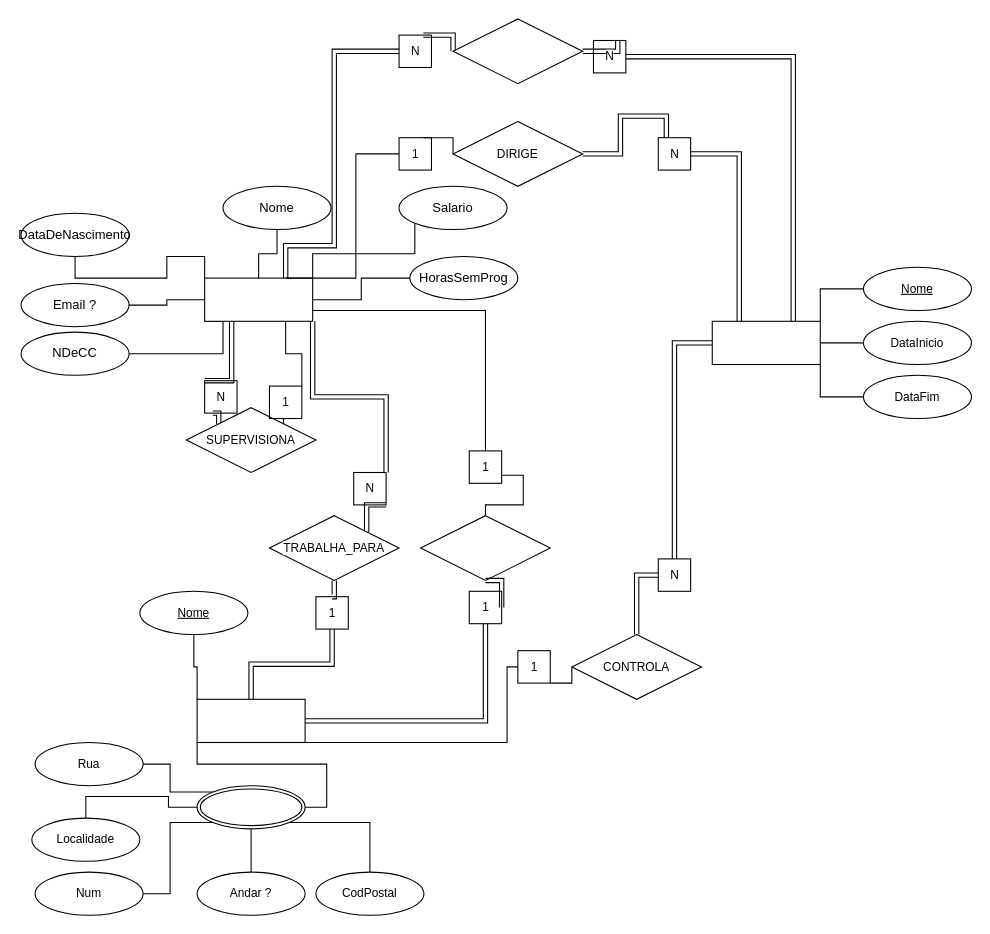
The diagram is 990 pixels wide and 934 high, and some of its shapes have lost their labels. The centre of each missing label's shape, as x and y in pixels:
DEPARTAMENTO: point (250, 720)
FUNCIONÁRIO: point (258, 299)
GERE: point (485, 547)
localizações: point (250, 807)
PROJETO: point (765, 342)
TRABALHA_EM: point (517, 51)
